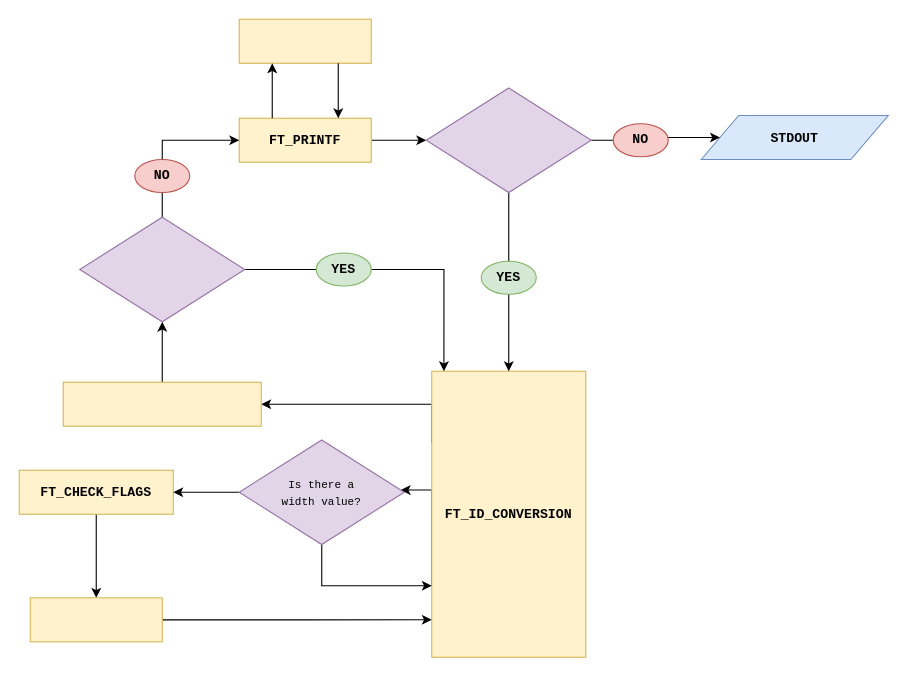
This 908x685 diagram has some shape labels left out. The shapes that lost their labels are listed below. From the top down, each one's centre as x and y in pixels, then its label:
pixel 304 40: FT_INIT_VAL
pixel 508 140: Is '%' the current character?
pixel 162 269: Is there a conversion at all?
pixel 161 403: FT_CONVERSION_EXISTS
pixel 95 619: FT_GET_WIDTH
